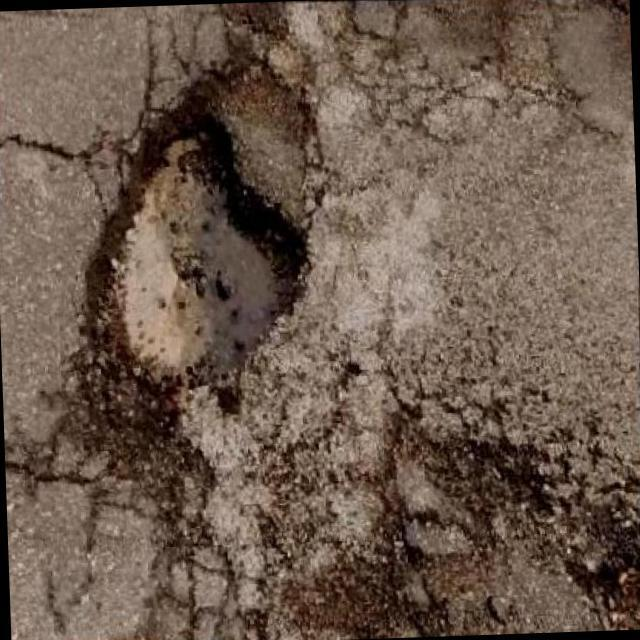Pothole: (69, 55, 327, 513), (284, 399, 640, 639)
